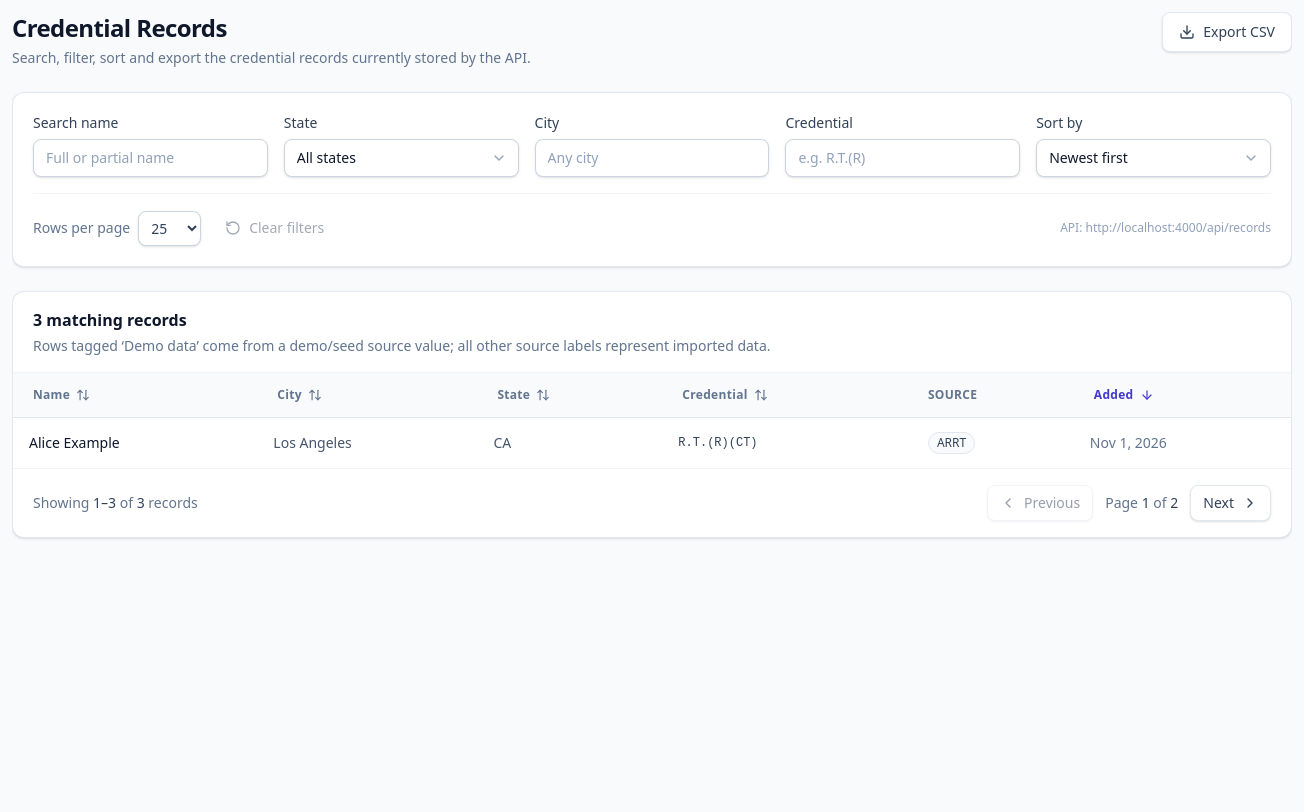
it: RecordsExplorer › exports all matching records to CSV
Check: the text "Alice Example" is shown, box [13, 418, 257, 468]
Click the button "Export CSV".
click(1227, 32)  # box [1162, 12, 1292, 52]
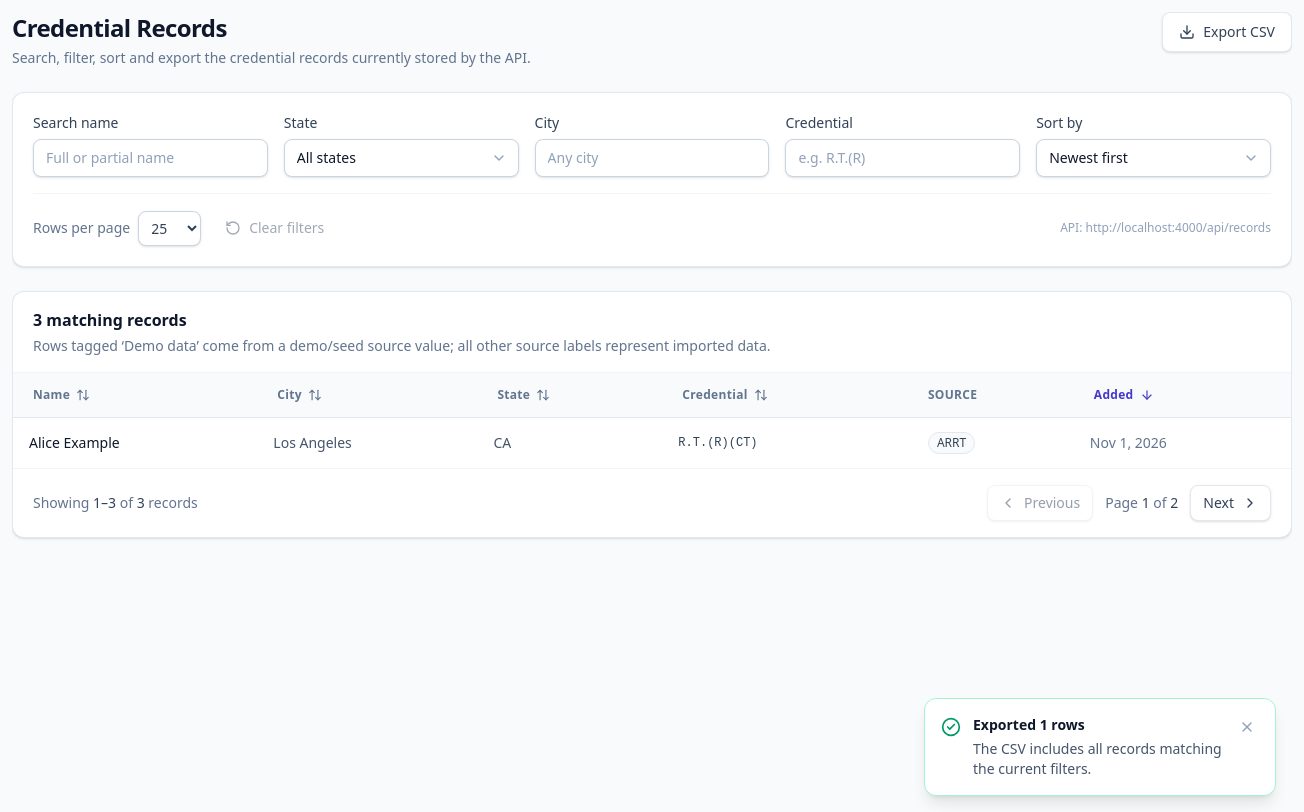
Check: the text "Exported 1 rows" is shown, box [973, 715, 1085, 734]
